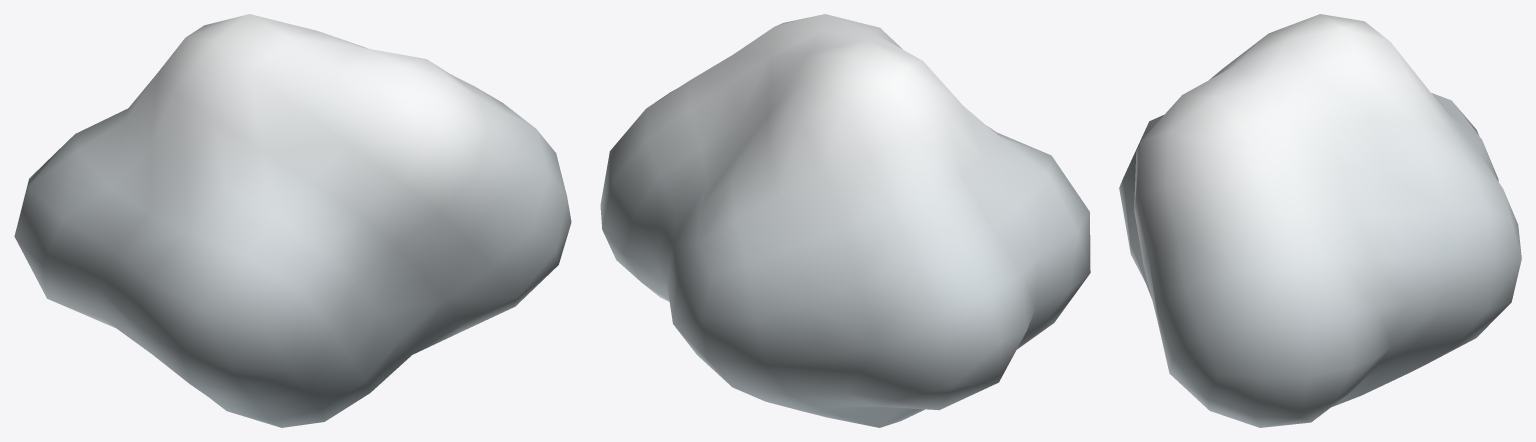
Rendered from cloud_small.glb.
The picture shows the model from 3 angles, left to right: view 1: azimuth 30°, elevation 25°; view 2: azimuth 150°, elevation 25°; view 3: azimuth 270°, elevation 25°; orthographic projection. The views are drawn at different scales.
Visible parts, largest first — view 1: cloud_small; view 2: cloud_small; view 3: cloud_small.
Boxes of the visible parts, <box> form: cloud_small: <box>14,14,571,427</box>; cloud_small: <box>600,14,1090,427</box>; cloud_small: <box>1119,14,1521,427</box>.
Bounding box in the file's own units: 2.34 × 1.84 × 1.79.
Materials: 1 (1 with a texture image).
